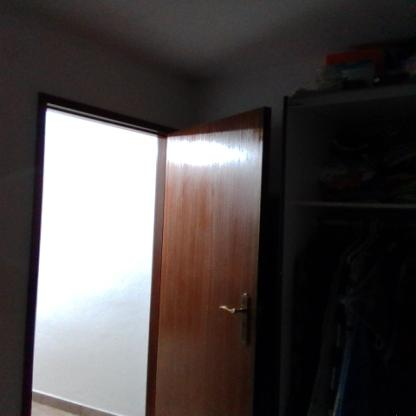open: (12, 91, 266, 416)
